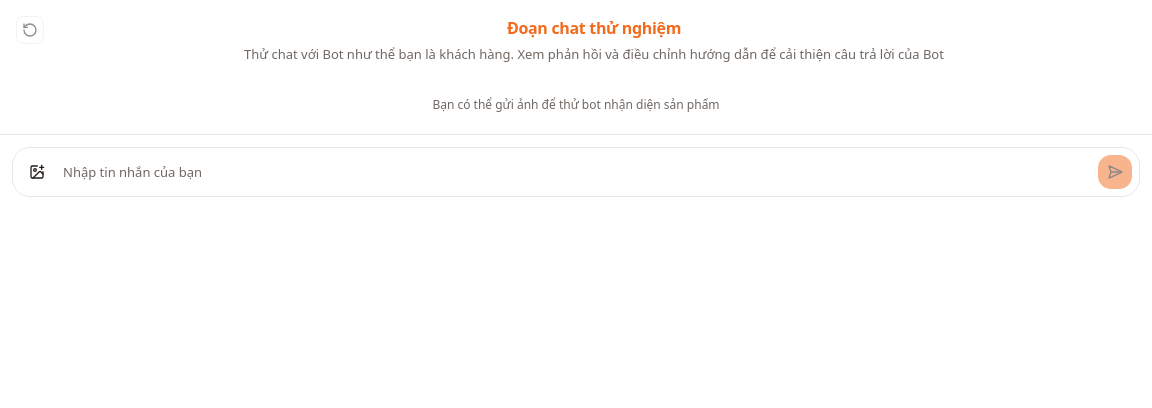
Test: TestChat quick replies › sends the title as the next customer message and removes the pills
Type "chot don" into the text box labelled "Nhập tin nhắn của bạn" at coordinates (576, 172), box [63,154,1089,190]
Then press Enter
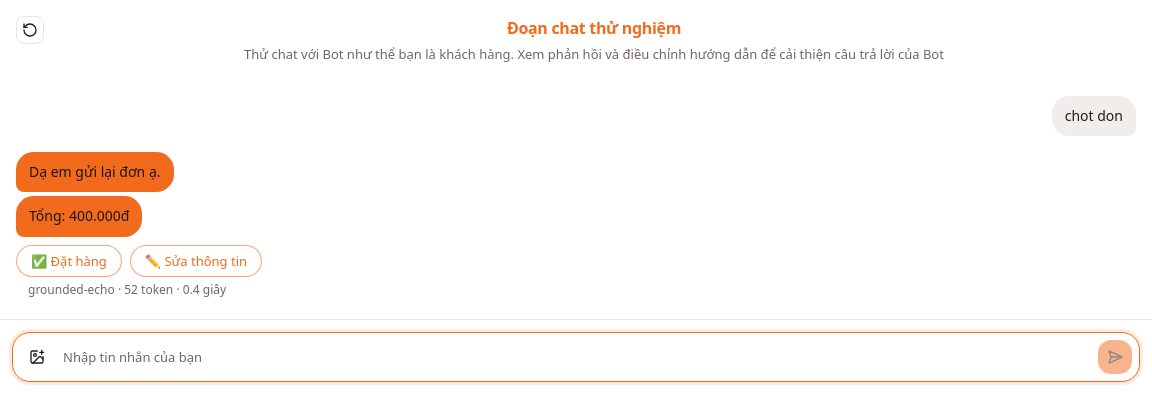
Click the button "✅ Đặt hàng" at coordinates (69, 261), box [16,245,122,277]
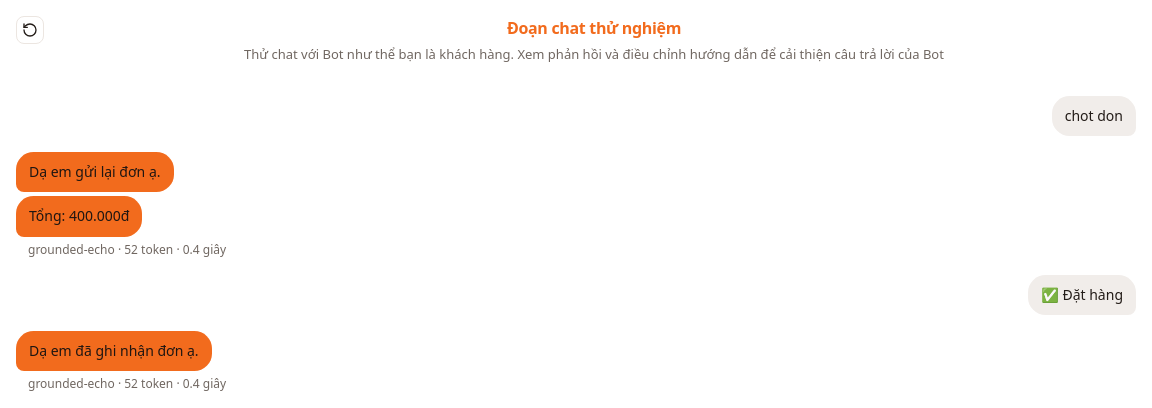
Expected: the button "Dạ em đã ghi nhận đơn ạ." is shown, [16,331,212,372]
Expected: the button "✏️ Sửa thông tin" is gone
